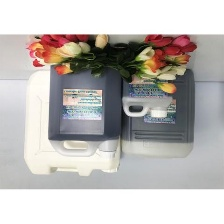cleaning_solution: (20, 67, 122, 176), (45, 57, 123, 161), (118, 65, 197, 160), (119, 52, 175, 120)
